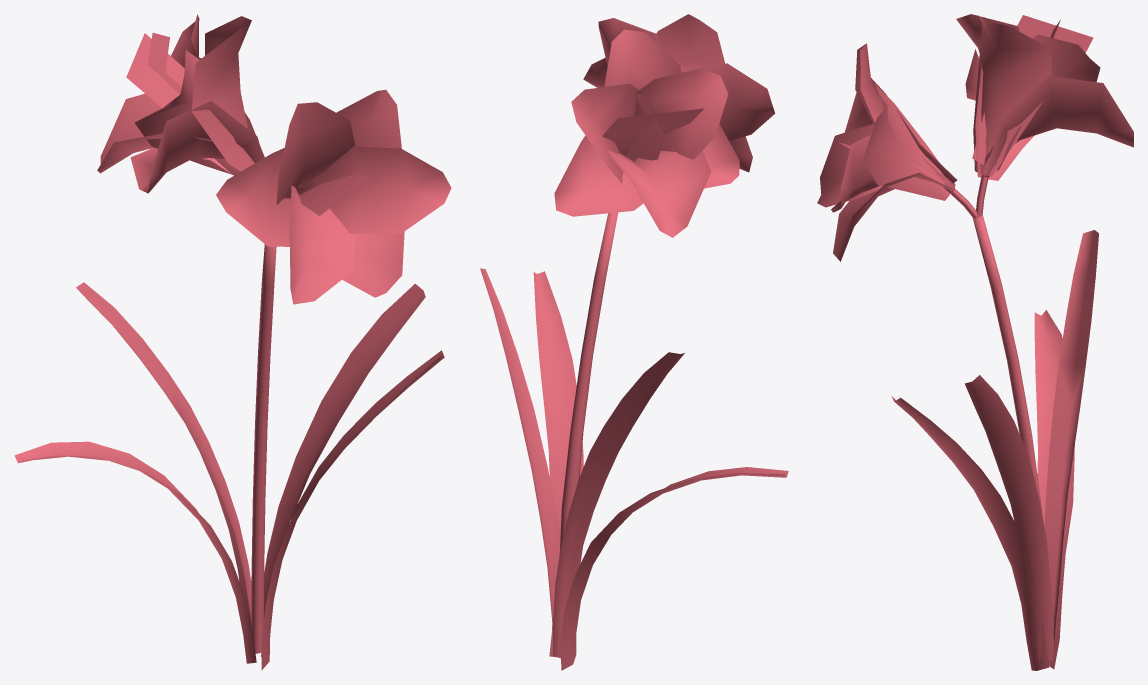
Rendered from SM_Amaryllis_01.glb.
The picture shows the model from 3 angles, left to right: view 1: azimuth 30°, elevation 25°; view 2: azimuth 150°, elevation 25°; view 3: azimuth 270°, elevation 25°; orthographic projection. The views are drawn at different scales.
Parts seen in each view (by area): view 1: SM_Amaryllis_01; view 2: SM_Amaryllis_01; view 3: SM_Amaryllis_01.
Part boxes in pixels (x1,y1,x2,y2): SM_Amaryllis_01: (14, 14, 451, 670); SM_Amaryllis_01: (480, 14, 788, 670); SM_Amaryllis_01: (817, 14, 1133, 670).
Size of what is drawn, in the model's own units: 12.53 by 21.91 by 9.93.
